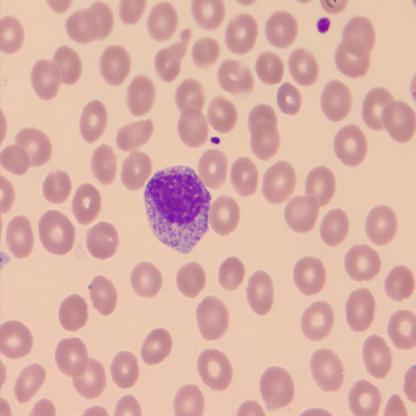Metamyelocyte: (141, 163, 212, 256)
